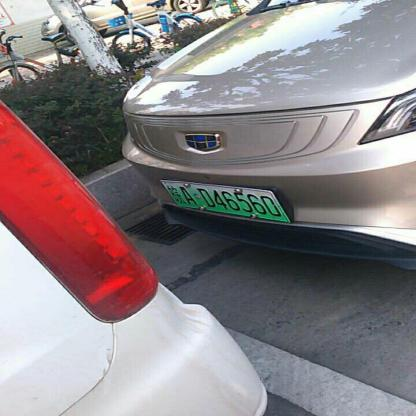lp: (160, 181, 290, 221)
